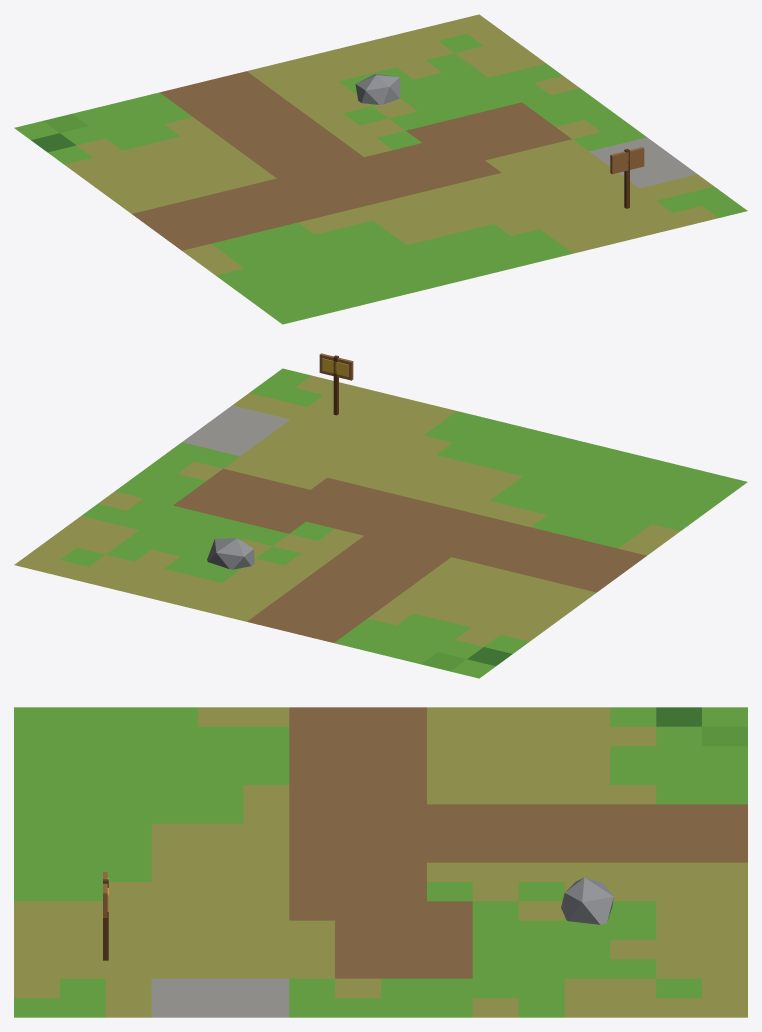
The model's file is chunk_8_5.glb.
3 views of the same model, one above another, from view 1: azimuth 30°, elevation 25°; view 2: azimuth 150°, elevation 25°; view 3: azimuth 270°, elevation 25° (orthographic). The views are drawn at different scales.
Visible parts, largest first — view 1: chunk_8_5; view 2: chunk_8_5; view 3: chunk_8_5.
Boxes of the visible parts, x1,y1,x2,y2 form: chunk_8_5: (14, 14, 747, 324); chunk_8_5: (14, 353, 747, 678); chunk_8_5: (14, 707, 747, 1017).
Size of the model in its own units: 16 by 2.32 by 16.
